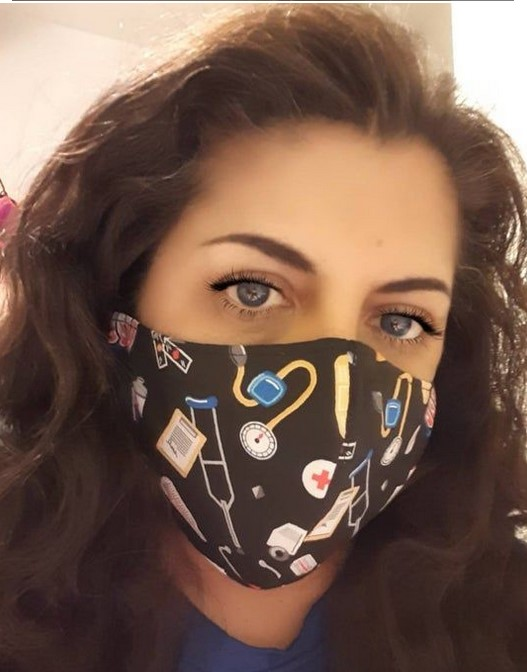face_with_mask: (90, 69, 489, 595)
